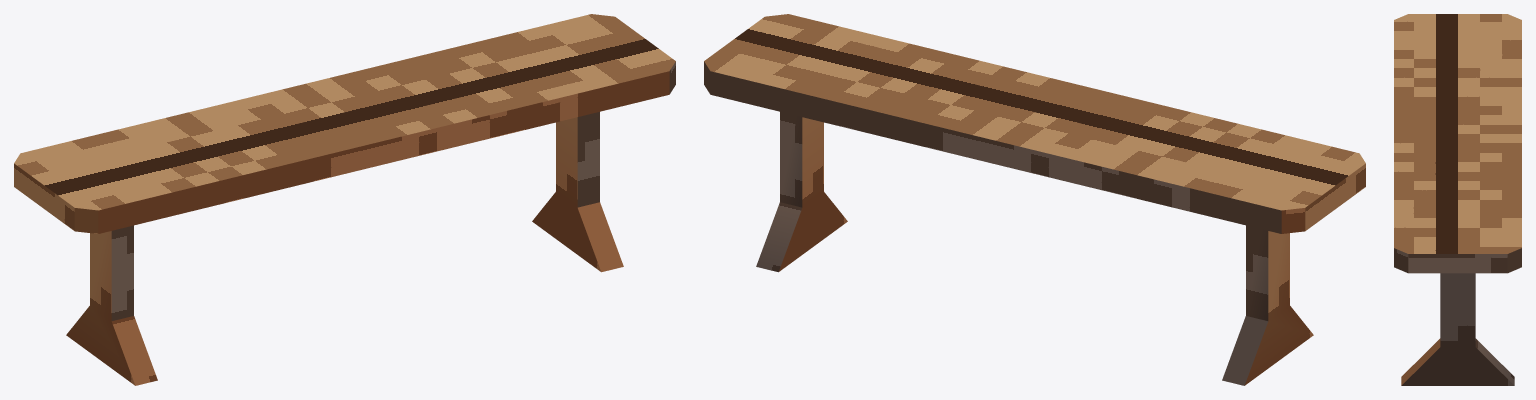
The model's file is wprop.chair__bench.glb.
3 renders of one model, left to right at view 1: azimuth 30°, elevation 25°; view 2: azimuth 150°, elevation 25°; view 3: azimuth 270°, elevation 25°, orthographic. The views are drawn at different scales.
Parts seen in each view (by area): view 1: kit_seat, kit_legs; view 2: kit_seat, kit_legs; view 3: kit_seat, kit_legs.
Part boxes in pixels (x1,y1,x2,y2): kit_seat: (14, 14, 675, 233); kit_legs: (66, 112, 623, 385); kit_seat: (704, 14, 1365, 233); kit_legs: (756, 112, 1313, 385); kit_seat: (1394, 14, 1521, 273); kit_legs: (1401, 273, 1514, 385).
Size of the model in its own units: 1.6 by 0.48 by 0.36.
Materials: 2 (2 with a texture image).
